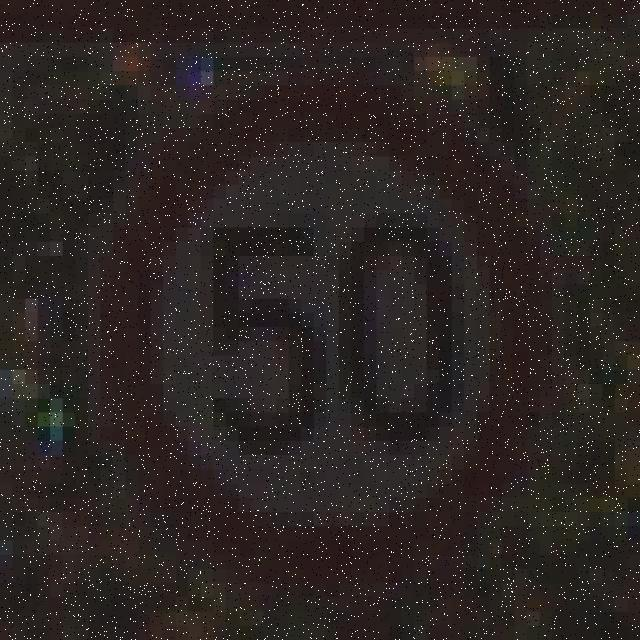Ograniczenie predkosci do 50: (105, 84, 542, 584)
